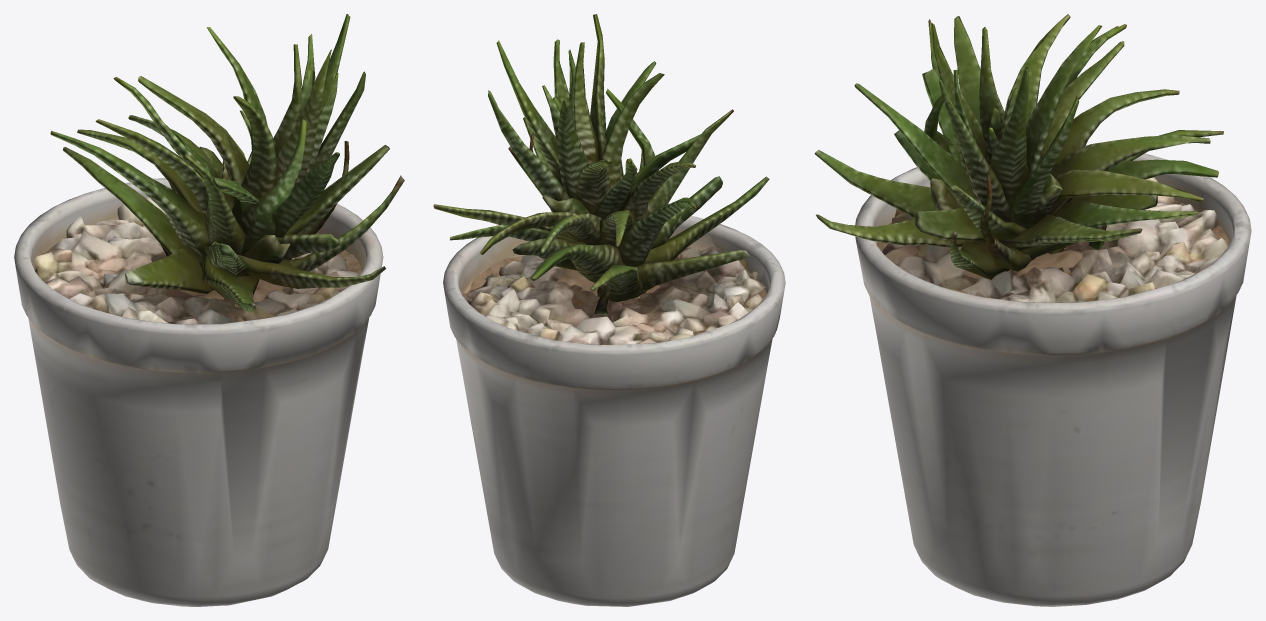
File: potted_plant_04.glb
3 renders of one model, left to right at view 1: azimuth 30°, elevation 25°; view 2: azimuth 150°, elevation 25°; view 3: azimuth 270°, elevation 25°, orthographic. The views are drawn at different scales.
Parts seen in each view (by area): view 1: potted_plant_04_ground; view 2: potted_plant_04_ground; view 3: potted_plant_04_ground.
Boxes of the visible parts, <box> form: potted_plant_04_ground: <box>14,14,404,606</box>; potted_plant_04_ground: <box>433,14,785,606</box>; potted_plant_04_ground: <box>814,14,1251,606</box>.
Bounding box in the file's own units: 0.1679 × 0.2672 × 0.1847.
Materials: 1 (1 with a texture image).
